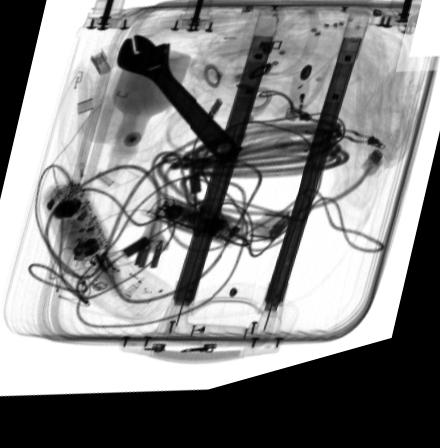Wrench: (114, 41, 236, 172)
